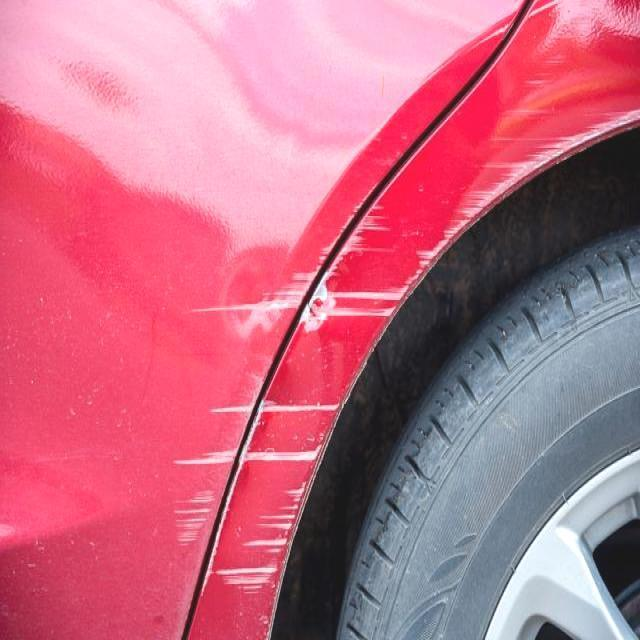minor: (208, 407, 251, 449)
moderate: (179, 248, 407, 640), (456, 111, 609, 235), (178, 225, 316, 341), (167, 455, 233, 556)
